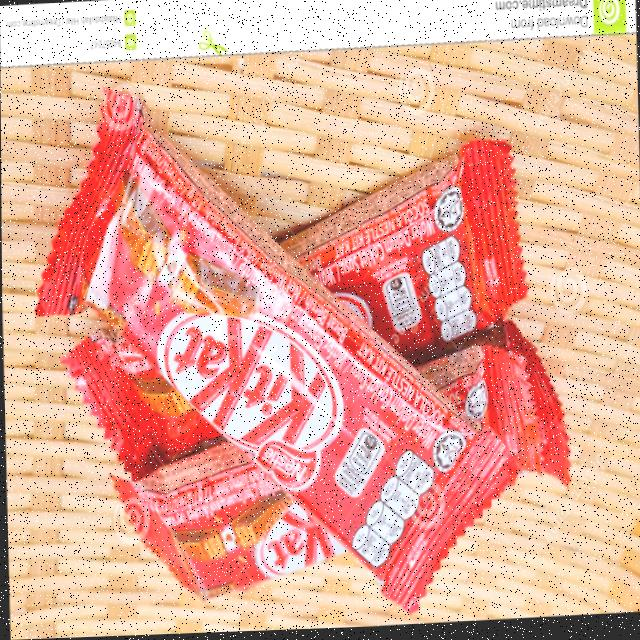kitkat: (37, 72, 516, 631), (105, 349, 534, 613)
